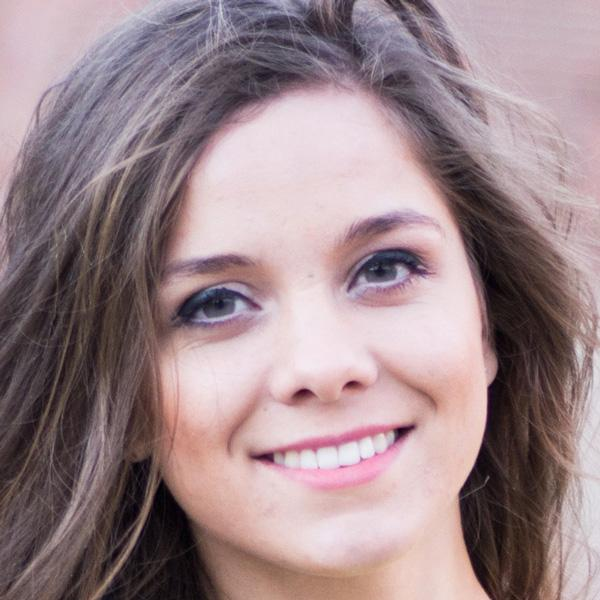Eyes: (164, 274, 274, 343), (336, 241, 435, 308)
